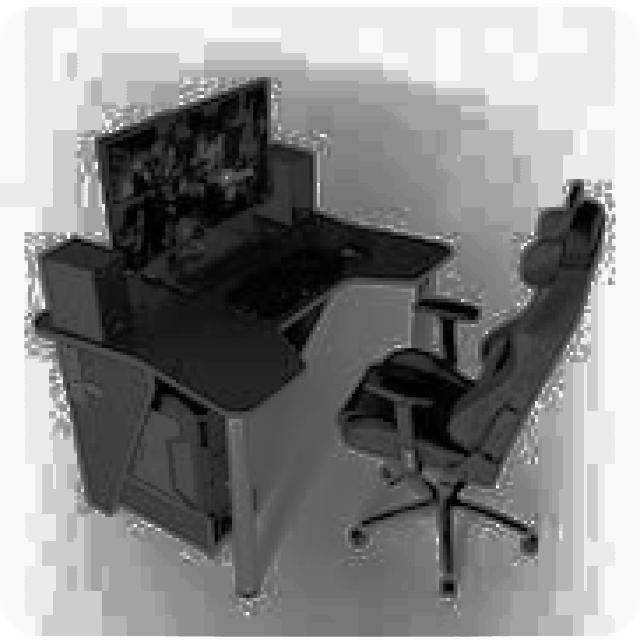book: (334, 180, 605, 594)
table: (31, 204, 454, 594)
